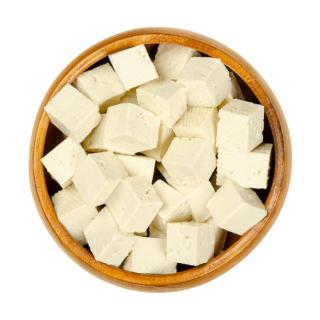Tahu: (37, 34, 280, 280)
